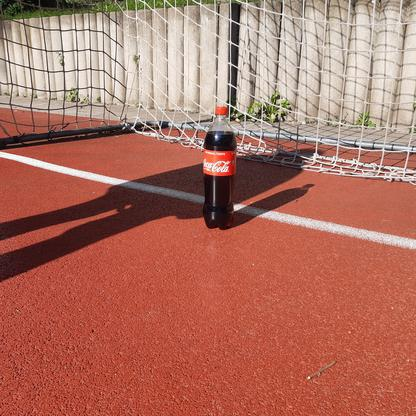coca-cola: (200, 106, 238, 231)
